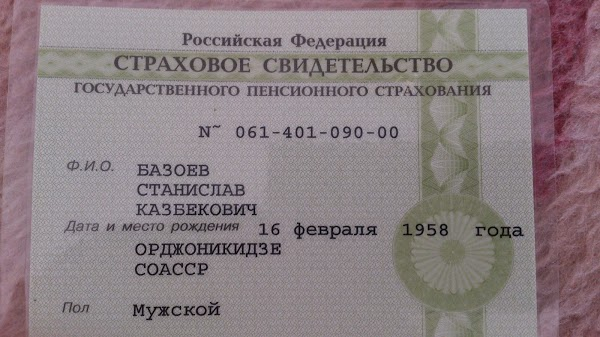text: (130, 237, 288, 278), (256, 220, 529, 239), (227, 119, 402, 144), (131, 198, 260, 220), (132, 179, 247, 198), (126, 300, 224, 320), (133, 158, 212, 180)
